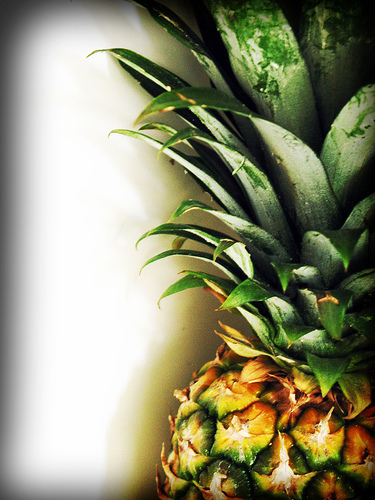pineapple: (82, 0, 373, 498)
